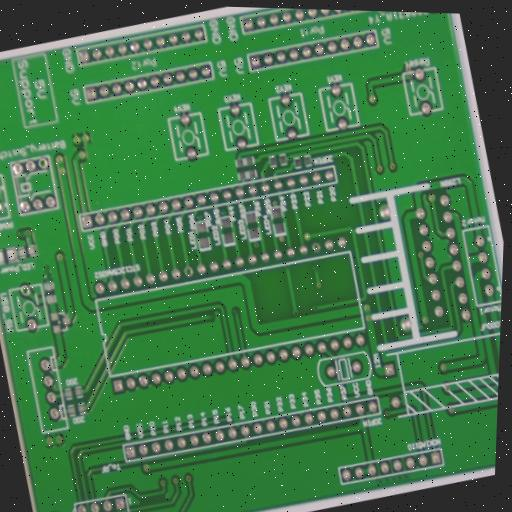missing_hole: (36, 155, 51, 173), (308, 239, 324, 255), (181, 263, 196, 279), (18, 283, 32, 299)
